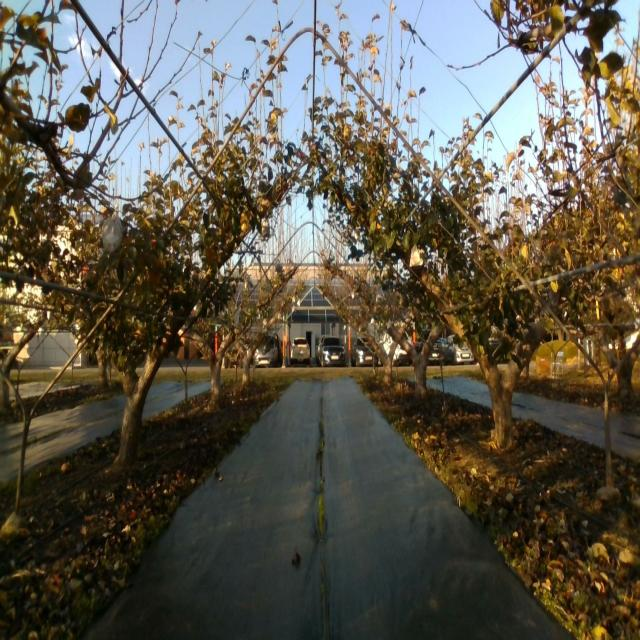pearbags: (101, 211, 122, 254), (409, 244, 423, 267), (260, 219, 270, 238)
